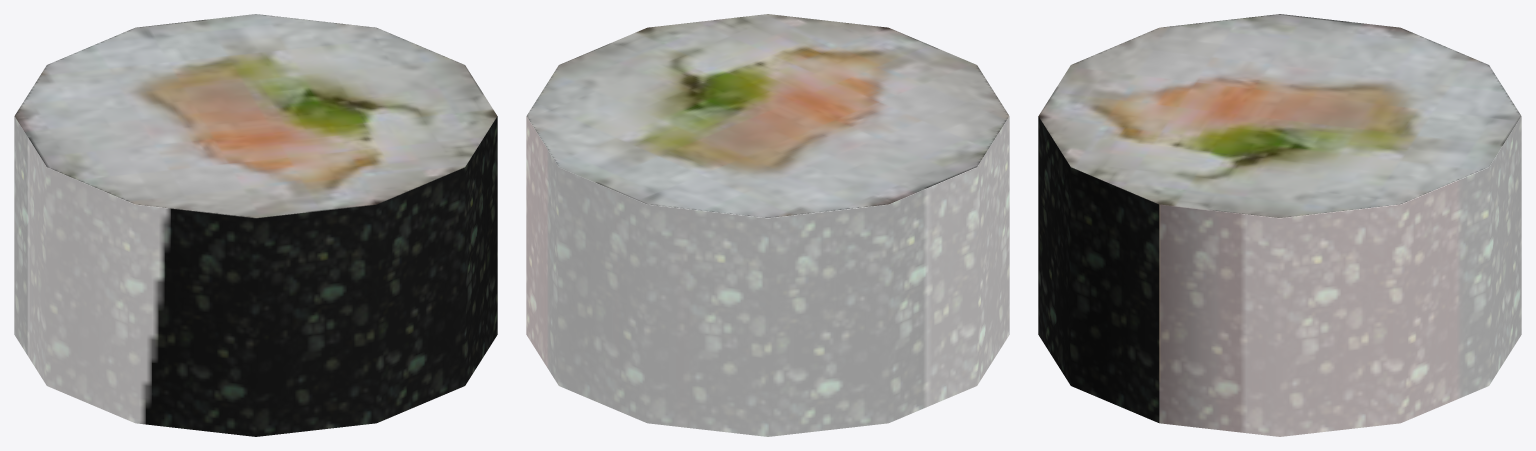
Rendered from SM_Maki_01.fbx.
3 views of the same model, side by side, from view 1: azimuth 30°, elevation 25°; view 2: azimuth 150°, elevation 25°; view 3: azimuth 270°, elevation 25° (orthographic).
Visible parts, largest first — view 1: SM_Maki_01_LOD0; view 2: SM_Maki_01_LOD0; view 3: SM_Maki_01_LOD0.
Boxes of the visible parts, box(x1,y1,x2,y2) form: SM_Maki_01_LOD0: box(14, 14, 497, 436); SM_Maki_01_LOD0: box(526, 14, 1009, 436); SM_Maki_01_LOD0: box(1038, 14, 1521, 436).
Size of the model in its own units: 5 by 5 by 2.5.
